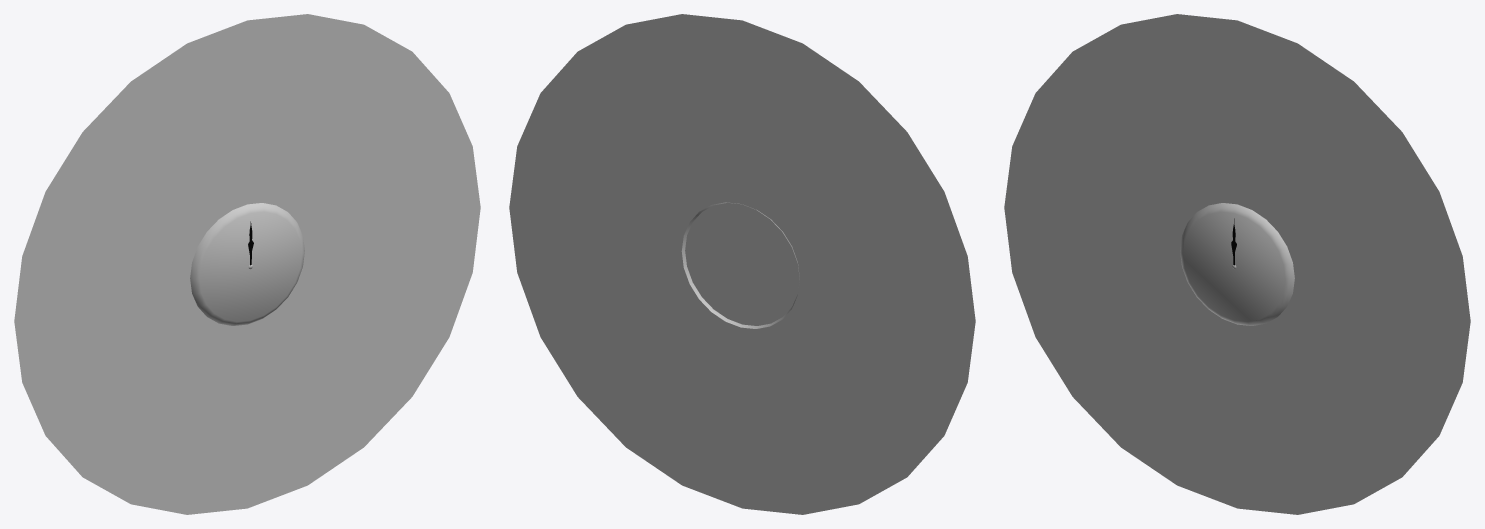
File: wanduhr_03.fbx
3 renders of one model, left to right at view 1: azimuth 30°, elevation 25°; view 2: azimuth 150°, elevation 25°; view 3: azimuth 330°, elevation 25°, orthographic.
Parts seen in each view (by area): view 1: wanduhr_03; view 2: wanduhr_03; view 3: wanduhr_03.
Part boxes in pixels (<box>): wanduhr_03: <box>14,14,480,514</box>; wanduhr_03: <box>509,14,975,514</box>; wanduhr_03: <box>1004,14,1470,514</box>.
Size of the model in its own units: 165 by 165 by 3.2.
